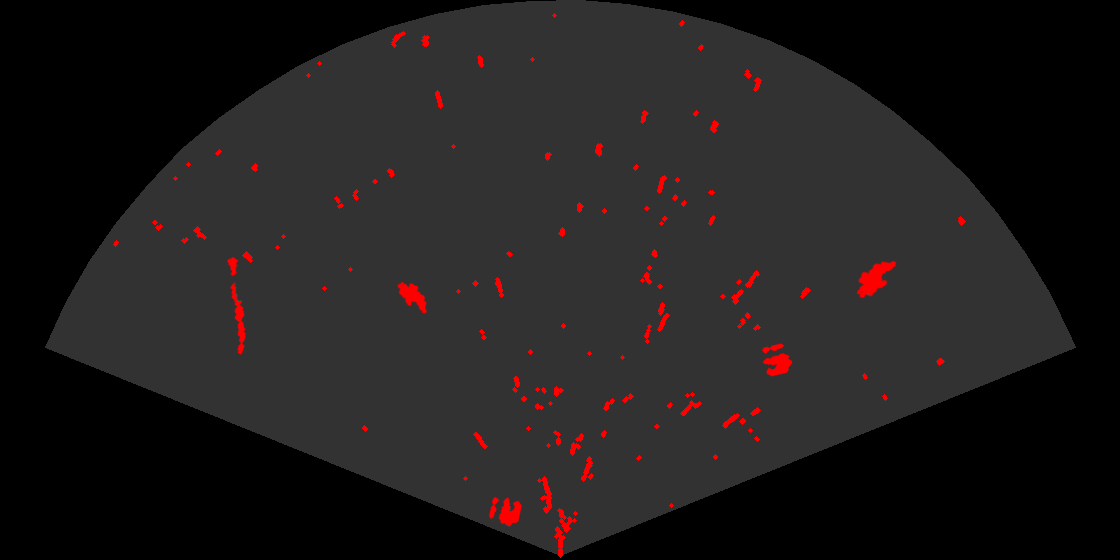AUV: (855, 259, 898, 300), (396, 280, 429, 315)
ball: (760, 342, 794, 378), (487, 495, 523, 528)
chain: (226, 255, 248, 356)
